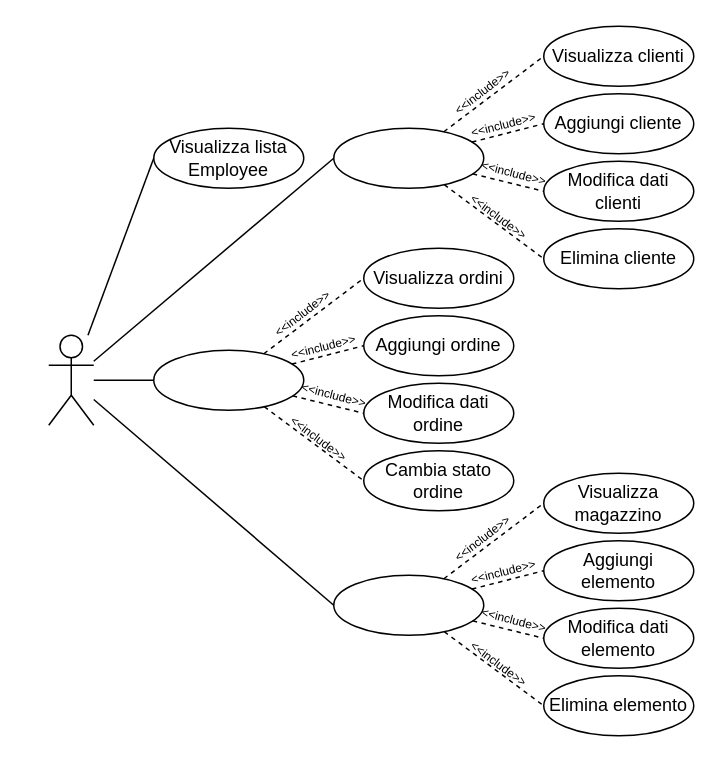
This 720x762 diagram has some shape labels left out. The shapes that lost their labels are listed below. From the top down, each one's box as (x1, y1, x2, y2) in pixels, then its label:
(332, 127, 484, 188): Gestisci clienti
(47, 334, 94, 425): Accountant
(152, 349, 304, 410): Gestisci ordini
(332, 574, 484, 635): Gestisci magazzino
